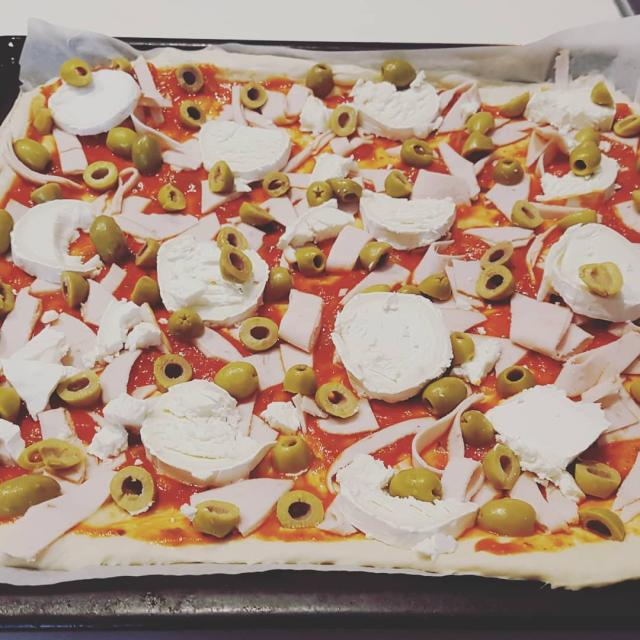green_olives: (0, 473, 60, 517), (192, 496, 244, 542), (110, 466, 156, 514), (276, 488, 326, 532), (476, 499, 537, 535), (386, 467, 444, 503), (18, 438, 83, 470), (574, 456, 622, 497), (315, 380, 361, 421), (422, 376, 468, 416), (577, 260, 624, 299), (90, 214, 126, 264), (213, 361, 260, 399), (484, 445, 521, 493), (577, 508, 627, 542), (56, 370, 101, 407), (271, 434, 311, 474), (238, 316, 279, 353), (154, 354, 193, 390), (475, 265, 514, 301), (13, 138, 52, 173), (496, 364, 536, 397), (458, 410, 496, 444), (280, 364, 319, 397), (167, 308, 205, 340), (59, 271, 91, 309), (220, 248, 253, 284), (134, 134, 162, 175), (570, 142, 602, 177), (416, 274, 454, 302), (358, 240, 391, 272), (479, 241, 516, 269), (206, 160, 236, 194), (398, 137, 432, 166), (306, 62, 334, 97), (494, 91, 530, 118), (493, 156, 524, 187), (294, 247, 326, 277), (512, 198, 544, 228), (83, 162, 117, 190), (266, 266, 294, 300), (462, 132, 496, 160), (448, 331, 475, 366), (381, 60, 416, 87), (175, 62, 205, 93), (382, 168, 413, 198), (330, 104, 357, 138), (130, 276, 160, 306), (27, 180, 60, 207), (238, 202, 275, 226), (60, 58, 90, 87), (179, 98, 208, 128), (157, 184, 187, 212), (328, 178, 363, 202), (238, 83, 270, 109), (0, 384, 21, 423), (558, 209, 597, 230), (261, 172, 292, 198), (106, 127, 134, 155), (216, 227, 248, 250), (0, 207, 15, 253), (465, 112, 496, 134), (136, 238, 160, 266), (590, 81, 616, 106), (613, 114, 640, 138), (0, 277, 18, 312), (306, 181, 331, 205), (572, 128, 600, 145), (34, 107, 53, 132), (31, 92, 45, 119), (359, 283, 390, 294), (110, 57, 130, 72), (396, 285, 421, 296), (631, 188, 640, 212), (631, 379, 640, 400)
pizza: (0, 49, 640, 594)
